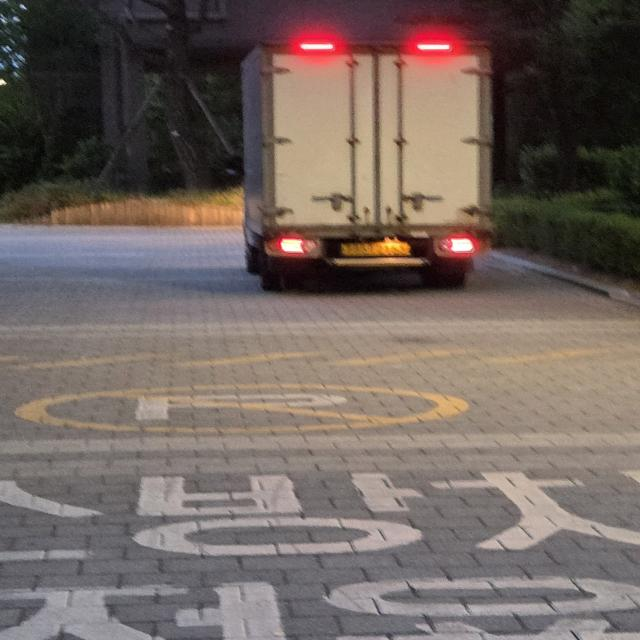car: (214, 21, 536, 320)
